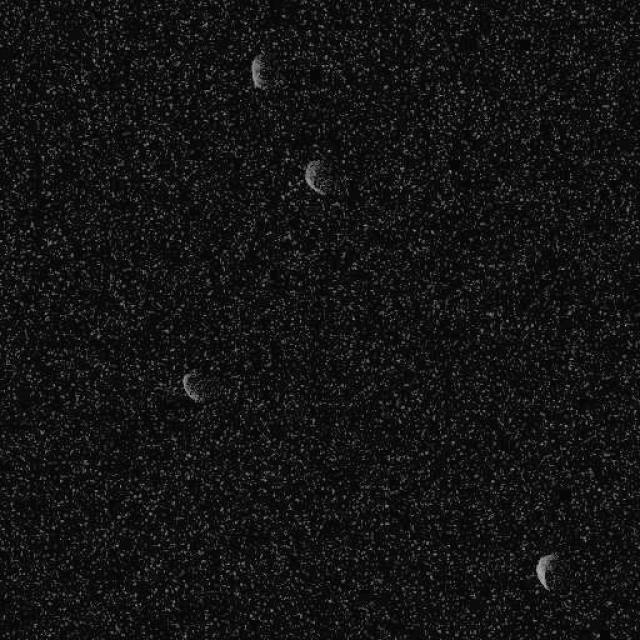D2: (302, 158, 334, 196), (534, 551, 558, 591), (180, 368, 206, 403), (250, 52, 266, 90)
